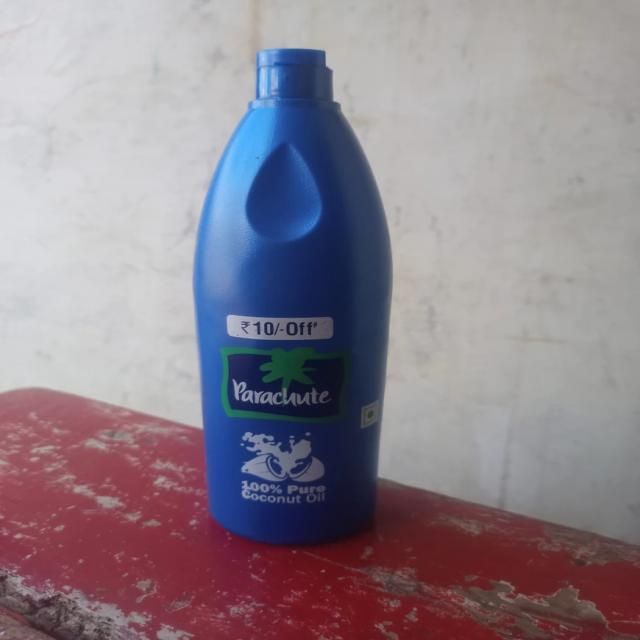parachute_oil: (180, 48, 402, 544)
